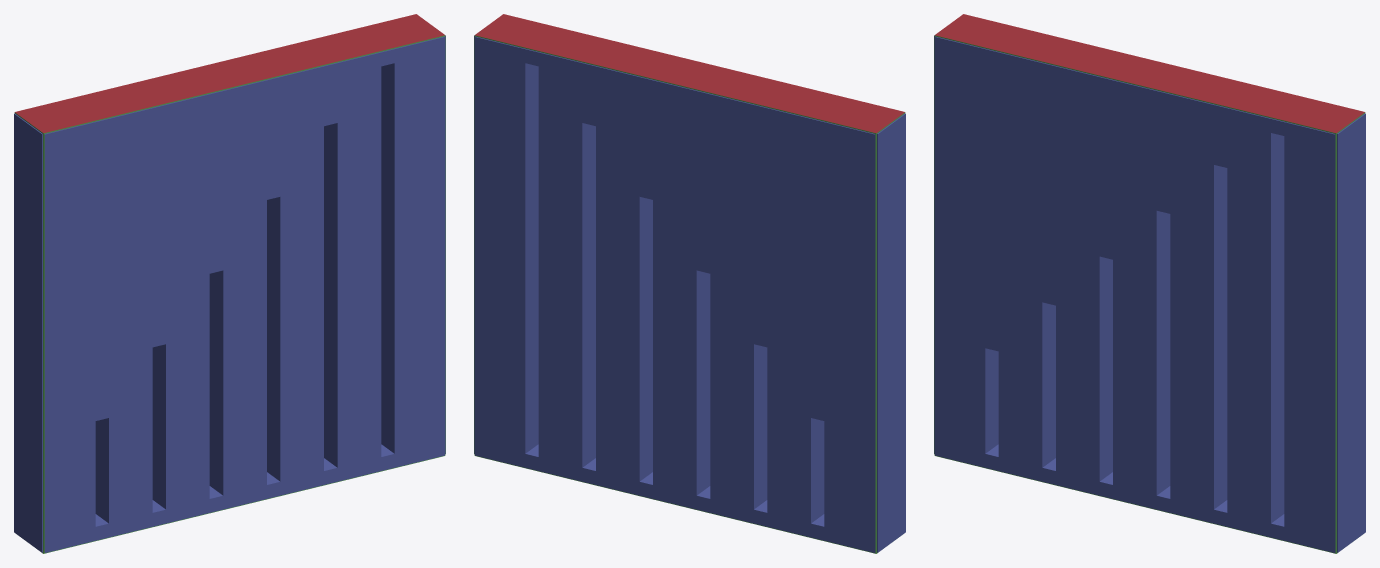
Rendered from SM_Window_03.fbx.
The picture shows the model from 3 angles, left to right: view 1: azimuth 30°, elevation 25°; view 2: azimuth 150°, elevation 25°; view 3: azimuth 330°, elevation 25°; orthographic projection.
Parts seen in each view (by area): view 1: SM_Window_03; view 2: SM_Window_03; view 3: SM_Window_03.
Boxes of the visible parts, x1,y1,x2,y2 form: SM_Window_03: (14, 14, 445, 553); SM_Window_03: (474, 14, 905, 553); SM_Window_03: (934, 14, 1365, 553).
Size of the model in its own units: 804 by 800 by 104.
